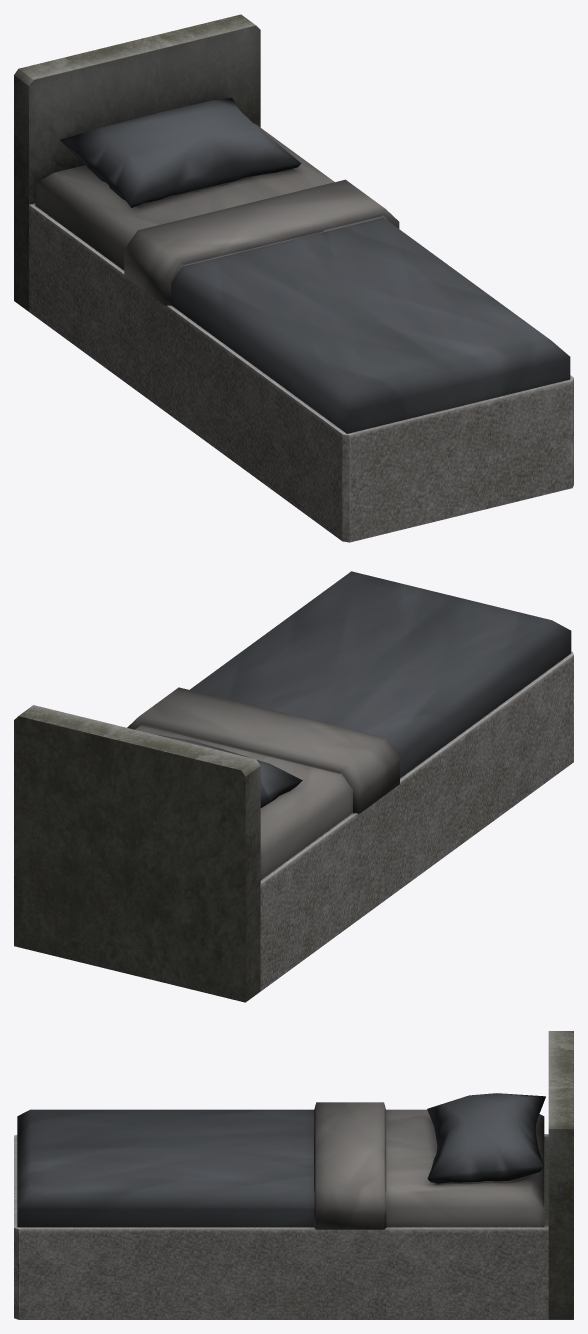
File: cama gris 1.80 x 0.69.glb
3 renders of one model, top to bottom at view 1: azimuth 30°, elevation 25°; view 2: azimuth 150°, elevation 25°; view 3: azimuth 270°, elevation 25°, orthographic. The views are drawn at different scales.
Visible parts, largest first — view 1: Cube.016; view 2: Cube.016; view 3: Cube.016.
Part boxes in pixels (x1,y1,x2,y2): Cube.016: (14,14,573,542); Cube.016: (14,571,573,1002); Cube.016: (14,1031,573,1319).
Size of the model in its own units: 0.738 by 0.6945 by 1.8.
Materials: 1 (1 with a texture image).
